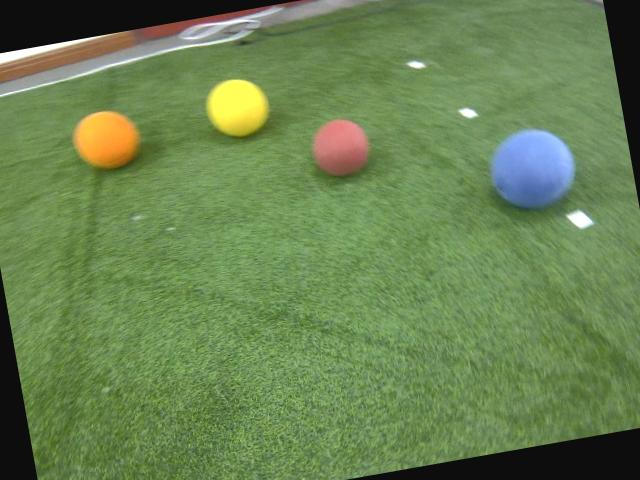blue_ball: (482, 122, 580, 214)
orange_ball: (67, 104, 143, 175)
red_ball: (306, 113, 374, 180)
yellow_ball: (200, 72, 274, 143)
